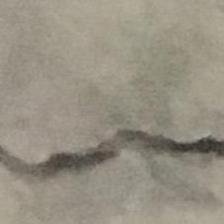Crack: (0, 83, 224, 187)
